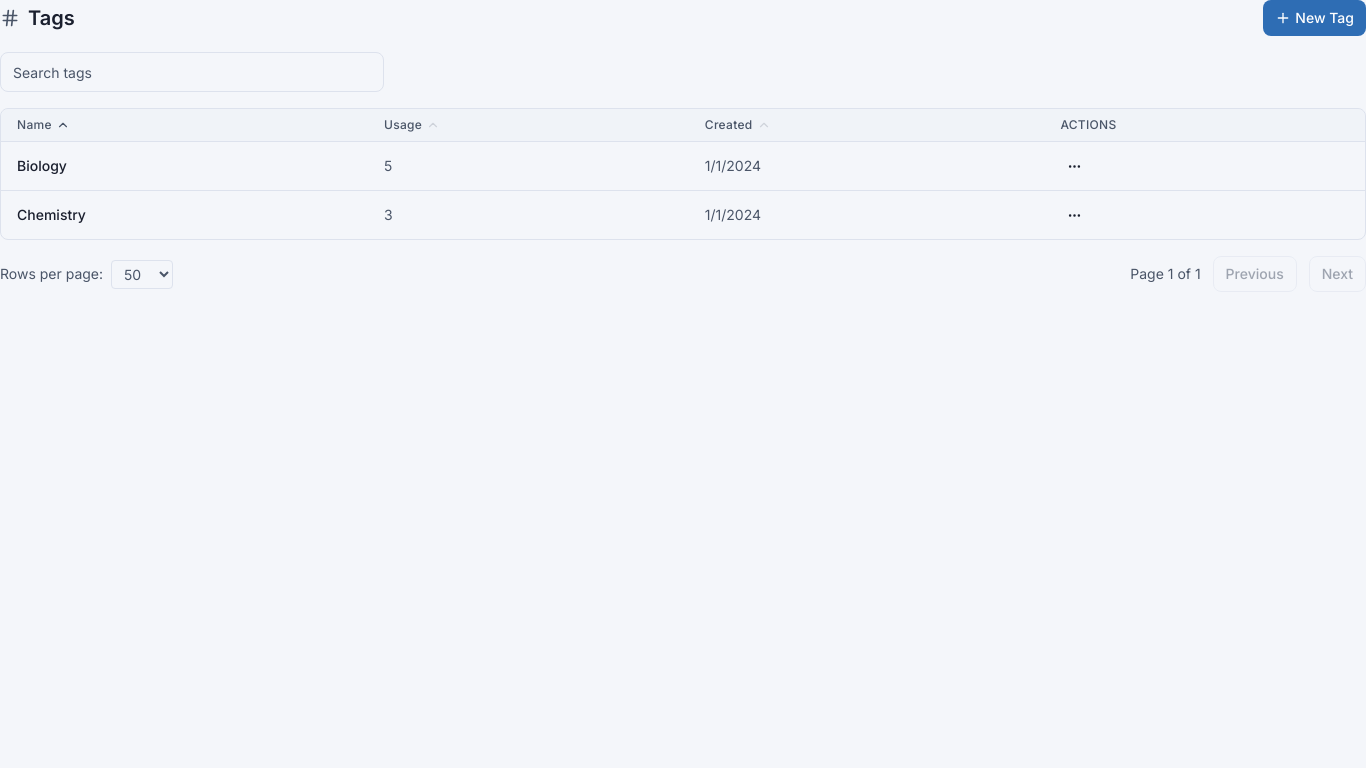
TagsPage › shows inline form error for ERR_TAG_DUPLICATE on create
Check: the text "Biology" is shown, box [1,142,368,190]
Note: Click "New Tag"
Click the button "New Tag": x=1315, y=18 [1263,0,1365,36]
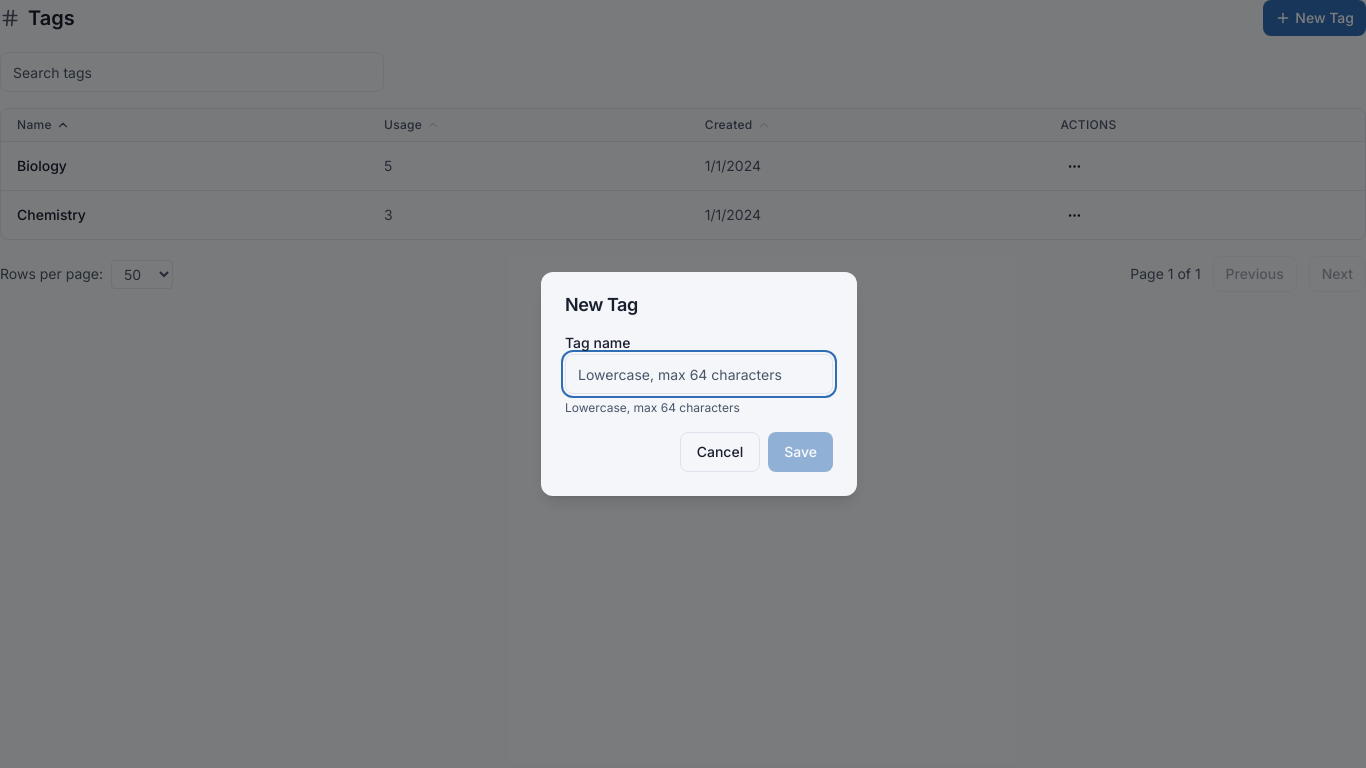
Note: Dialog should appear
In the field labelled "Tag name": x=699, y=374 [565,354,833,394], type "biology"
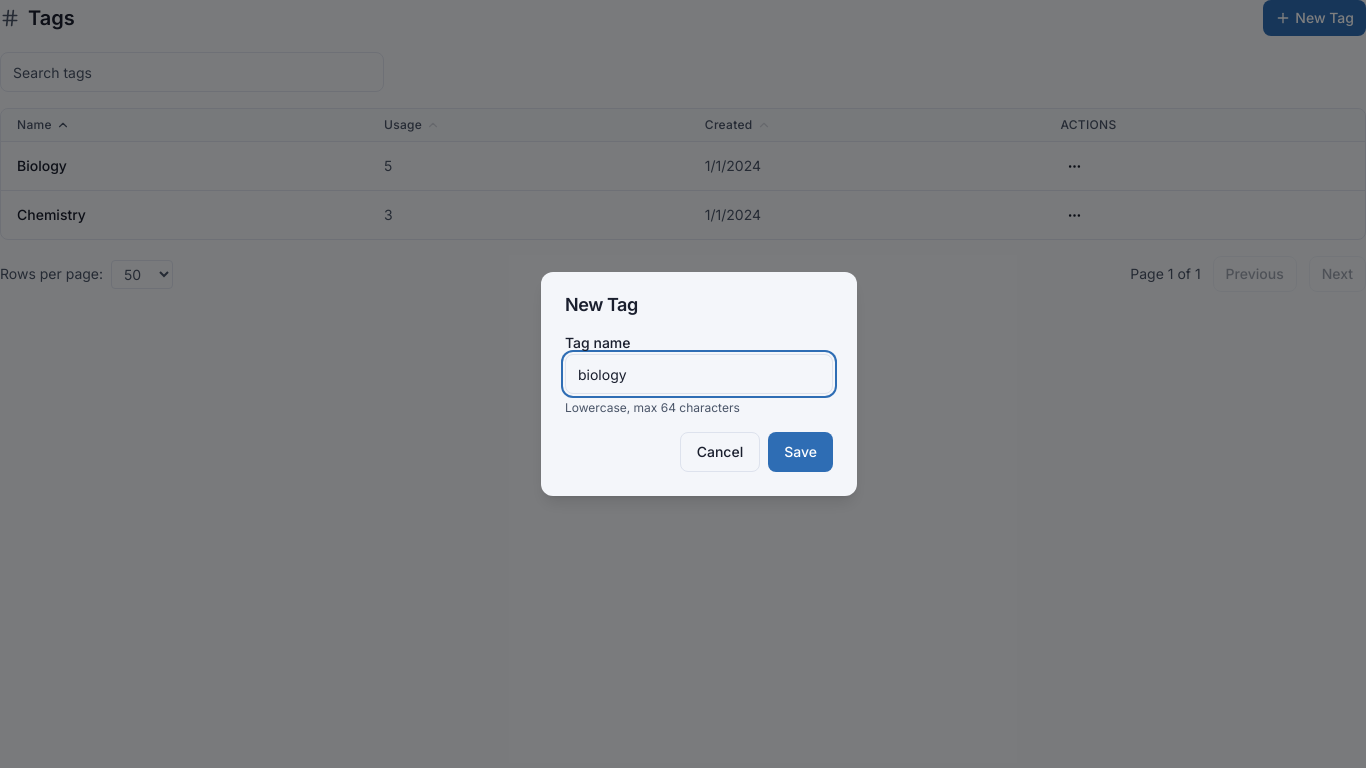
Click the button "Save": x=801, y=452 [768,432,833,472]
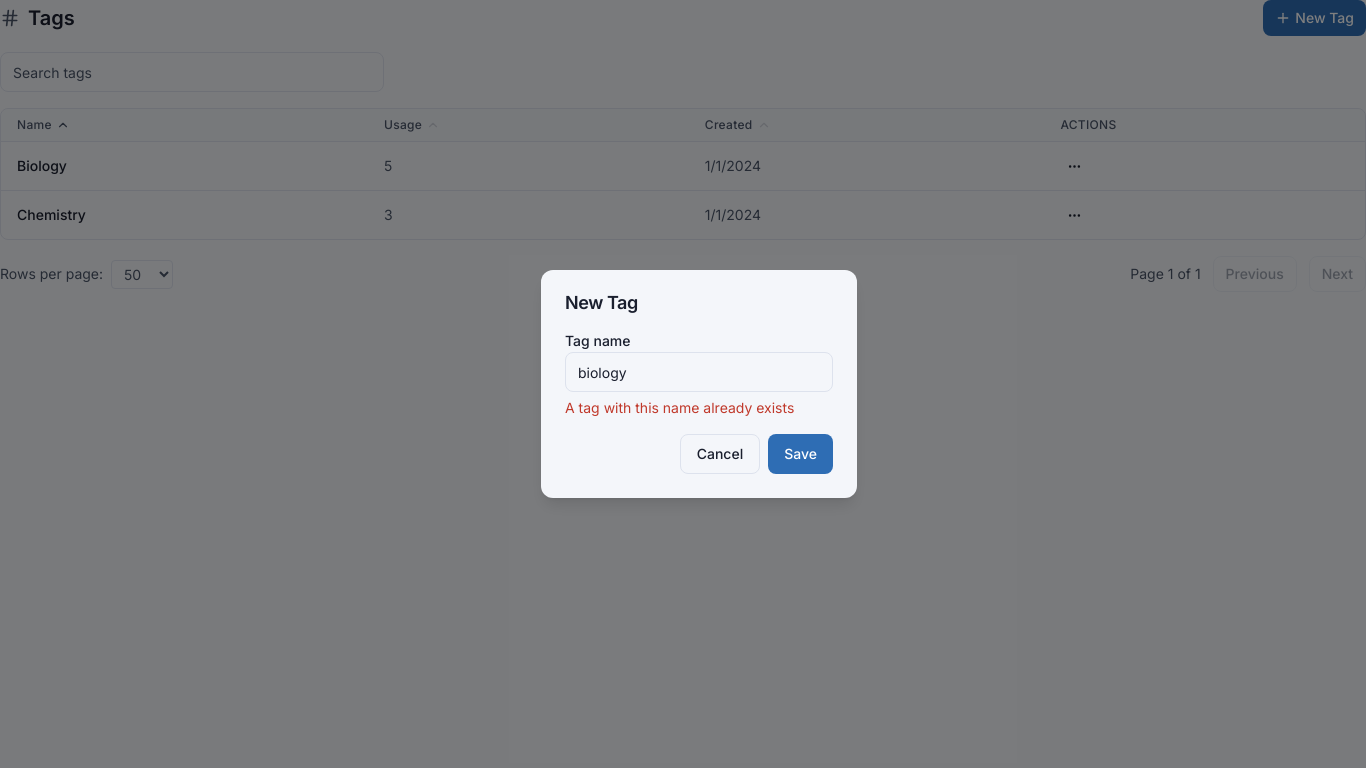
Check: the text "A tag with this name already exists" is shown, box [565,398,833,418]
